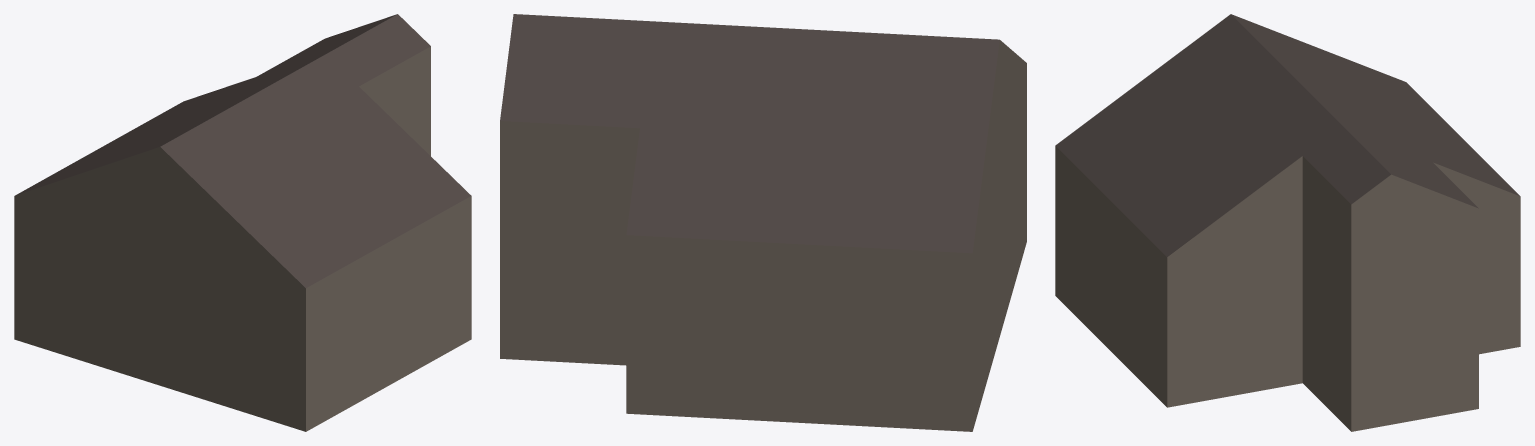
3 views of the same model, side by side, from view 1: azimuth 30°, elevation 25°; view 2: azimuth 150°, elevation 25°; view 3: azimuth 270°, elevation 25° (orthographic). The views are drawn at different scales.
Parts seen in each view (by area): view 1: HP-w1200774744; view 2: HP-w1200774744; view 3: HP-w1200774744.
Part boxes in pixels (x1,y1,x2,y2): HP-w1200774744: (14, 14, 471, 431); HP-w1200774744: (500, 14, 1026, 431); HP-w1200774744: (1055, 14, 1520, 431).
Bounding box in the file's own units: 25.6 × 14.98 × 25.23.
